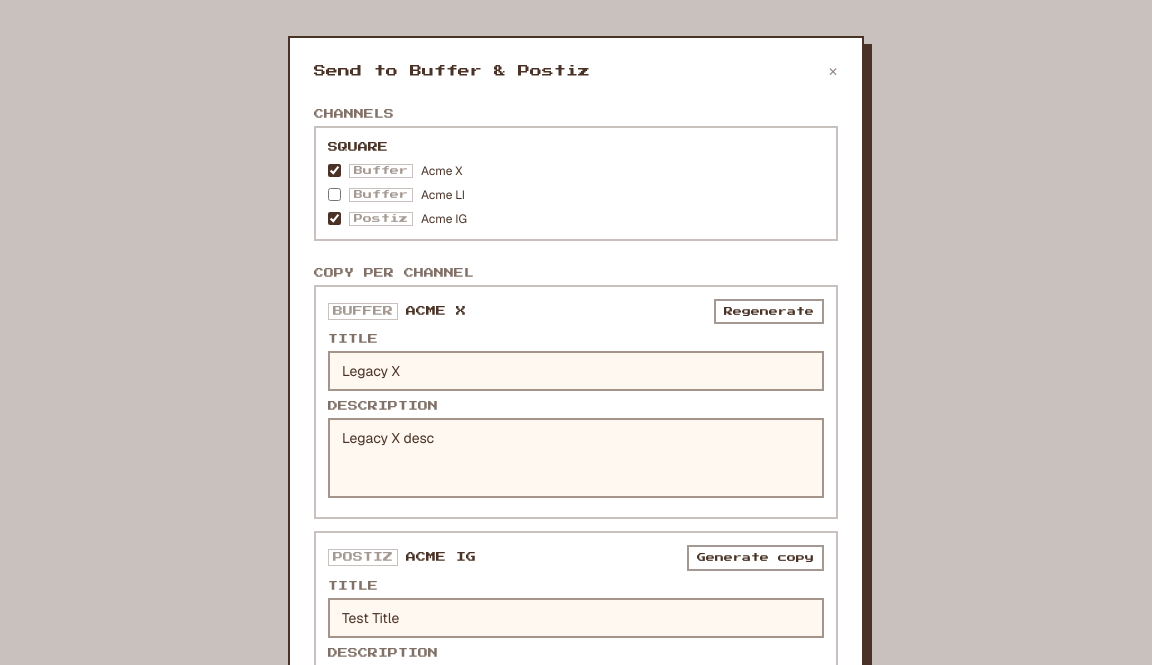
Test: ApproveDraftModal — per-channel composers › seeds composer with legacy initialCopyByPlatform and starts cap at 1
This screenshot has width=1152, height=665.
Expected: the field with test id "channel-title-buffer::ch1" holds "Legacy X", [328,351,824,391]
What coordinates should you click on to do the following:
click the button with test id "channel-regenerate-buffer::ch1"
I would click on:
 (769, 311)
Its box is [714,298,824,324].
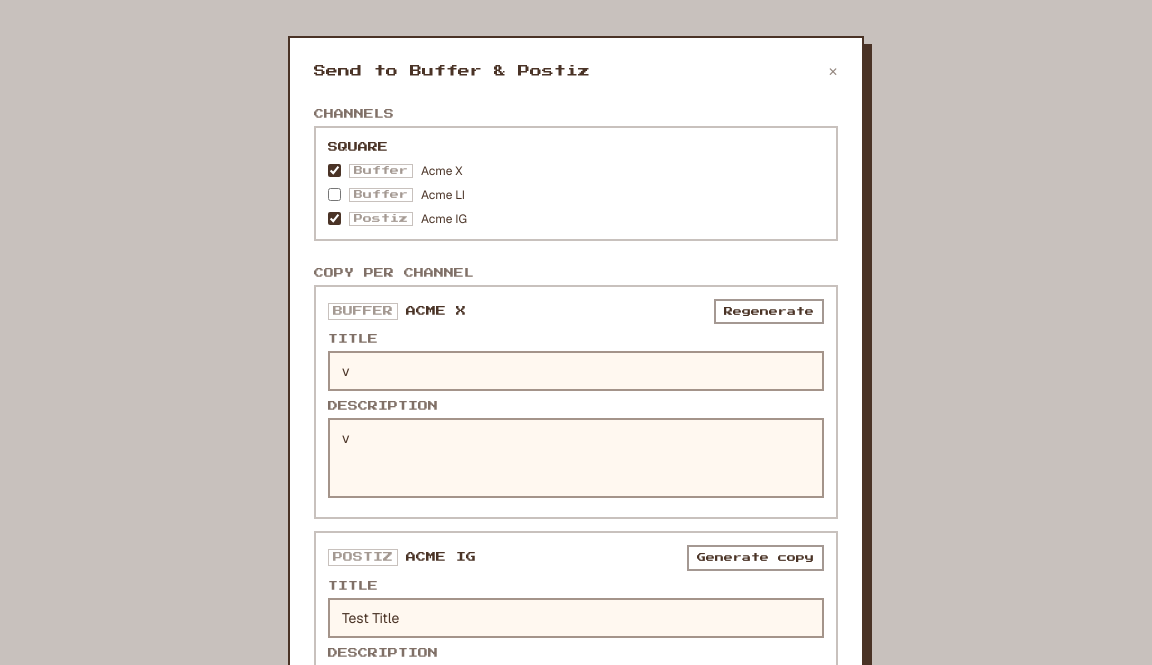
Expected: the field with test id "channel-title-buffer::ch1" holds "v", [328,351,824,391]
What coordinates should you click on to do the following:
click the button with test id "channel-regenerate-buffer::ch1"
I would click on:
 (769, 311)
Its box is [714,298,824,324].
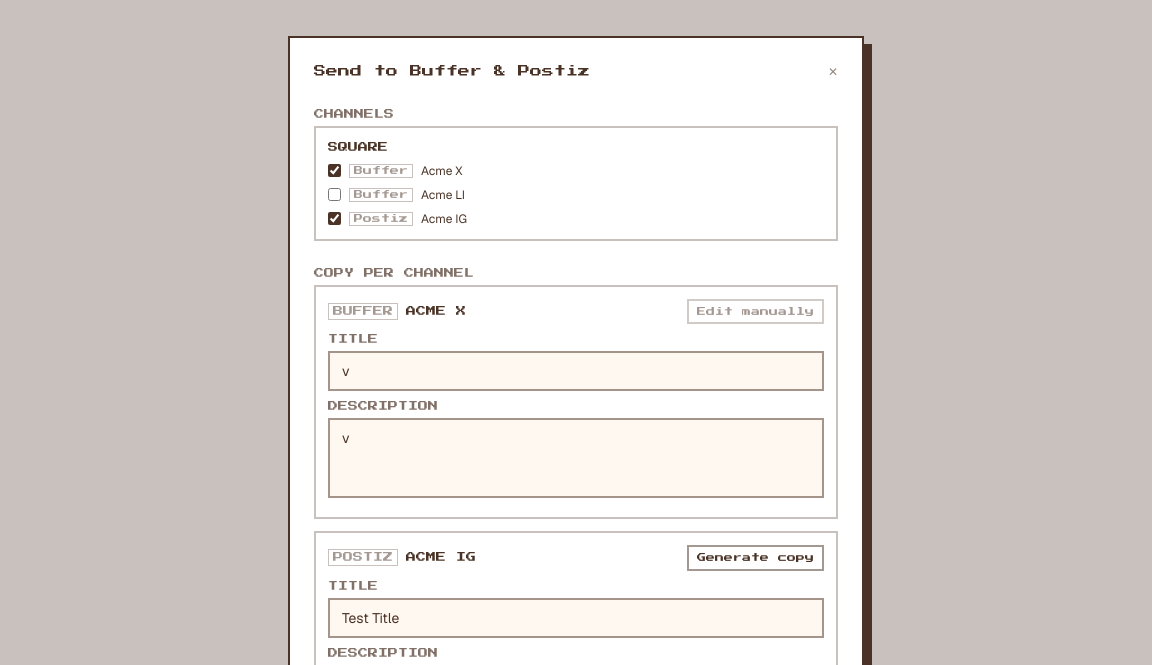
Expected: the field with test id "channel-title-buffer::ch1" holds "v", [328,351,824,391]
Expected: the button with test id "channel-regenerate-buffer::ch1" is disabled, [687,298,824,324]
